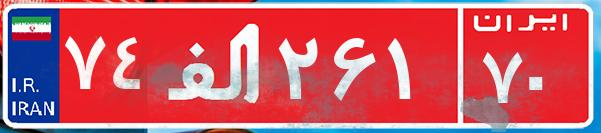0: (525, 38, 570, 115)
1: (385, 28, 445, 110)
2: (273, 28, 330, 110)
4: (110, 28, 158, 105)
6: (330, 28, 385, 110)
7: (57, 26, 110, 107), (475, 38, 525, 113)
الف: (158, 15, 273, 115)
